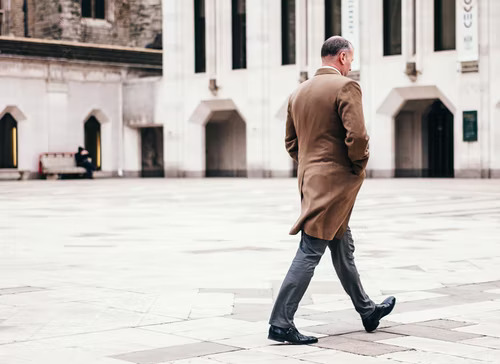person: (266, 35, 396, 342)
